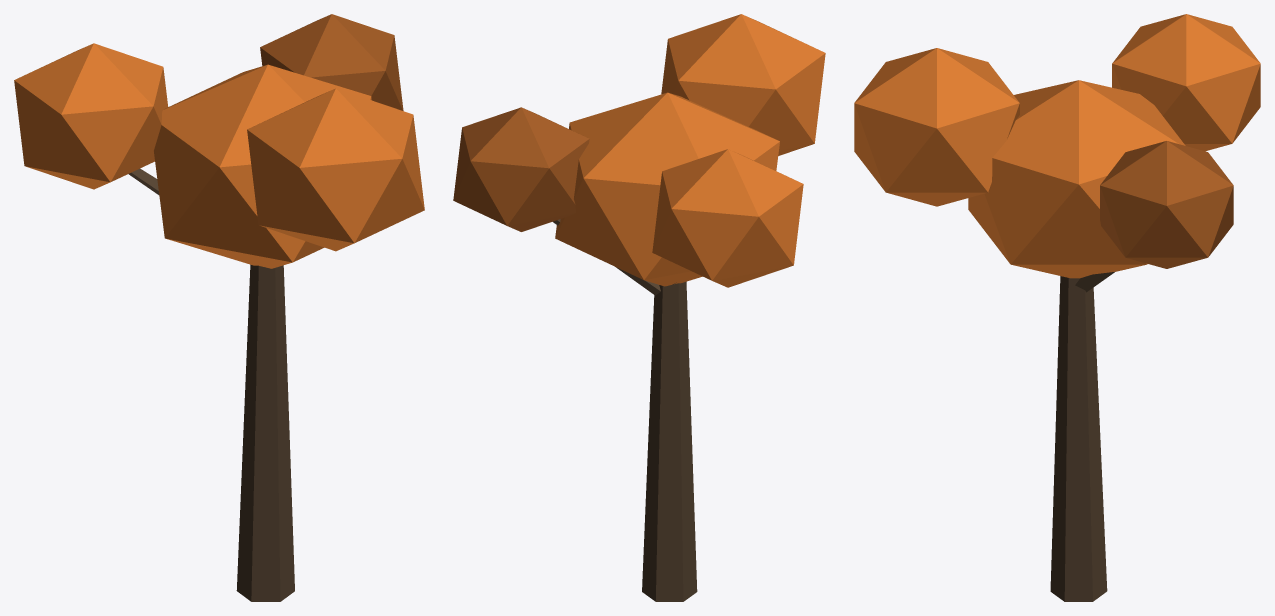
File: broad-v0-autumn.glb
The picture shows the model from 3 angles, left to right: view 1: azimuth 30°, elevation 25°; view 2: azimuth 150°, elevation 25°; view 3: azimuth 270°, elevation 25°; orthographic projection. The views are drawn at different scales.
Parts seen in each view (by area): view 1: broad_v0; view 2: broad_v0; view 3: broad_v0.
Boxes of the visible parts, <box> form: broad_v0: <box>14,14,424,601</box>; broad_v0: <box>453,14,825,601</box>; broad_v0: <box>854,14,1260,601</box>.
Size of what is drawn, in the model's own units: 4.28 by 6.32 by 4.3.
